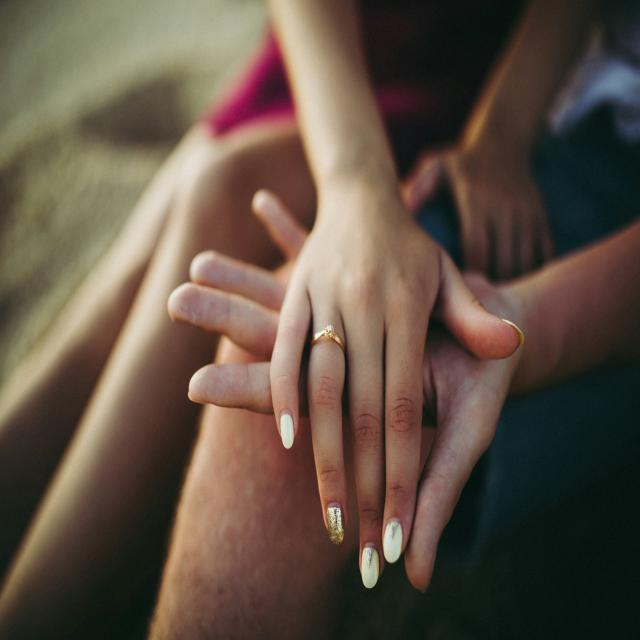Fingernail: (383, 517, 402, 563), (327, 502, 344, 544), (362, 547, 379, 588), (281, 410, 294, 450)
